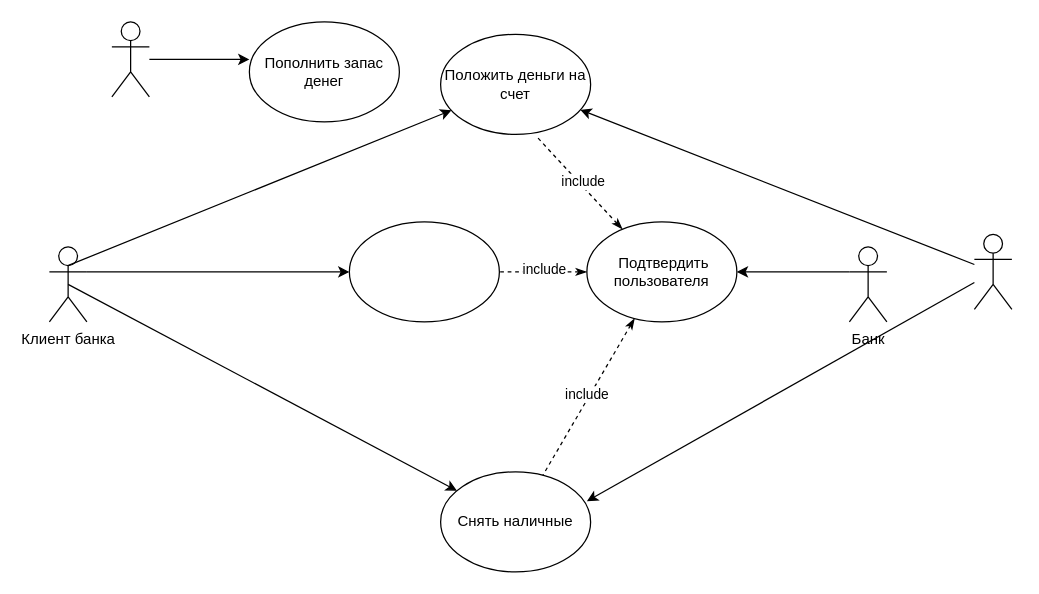
This 1039x594 diagram has some shape labels left out. The shapes that lost their labels are listed below. From the top down, each one's box as (x1, y1, x2, y2) in pixels, then its label:
(111, 21, 149, 97): Оператор
(348, 221, 499, 322): Перевести деньги со счета
(973, 233, 1012, 309): Кассир
